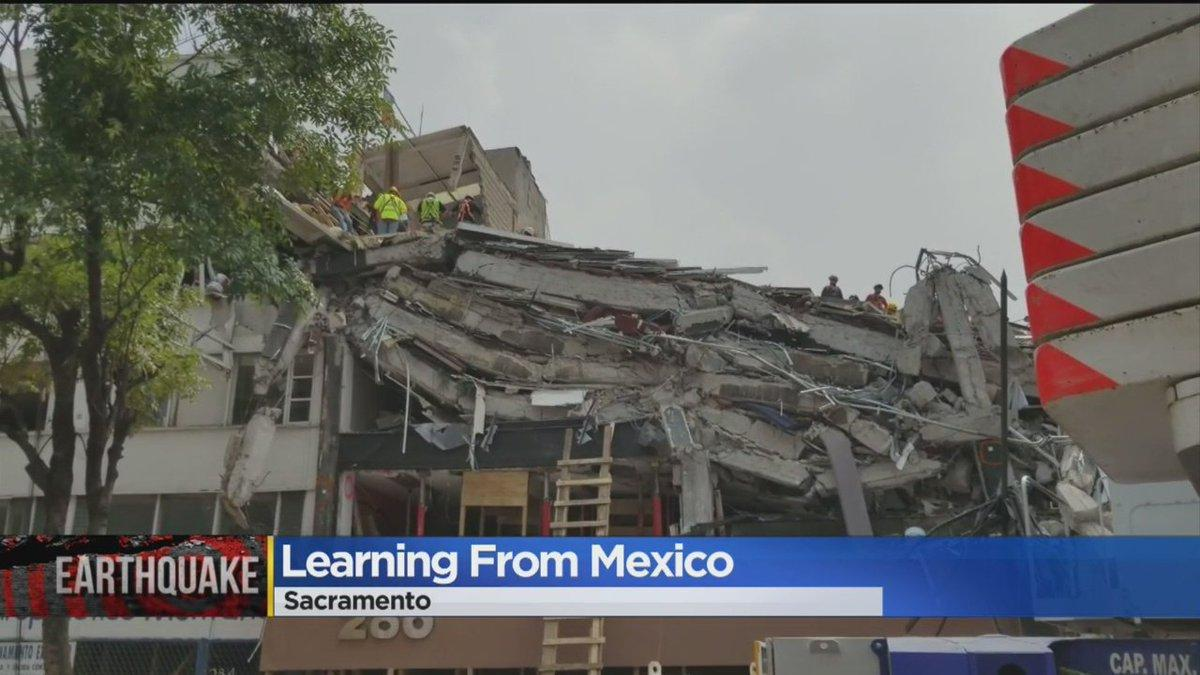destroyed: (320, 110, 1040, 535)
